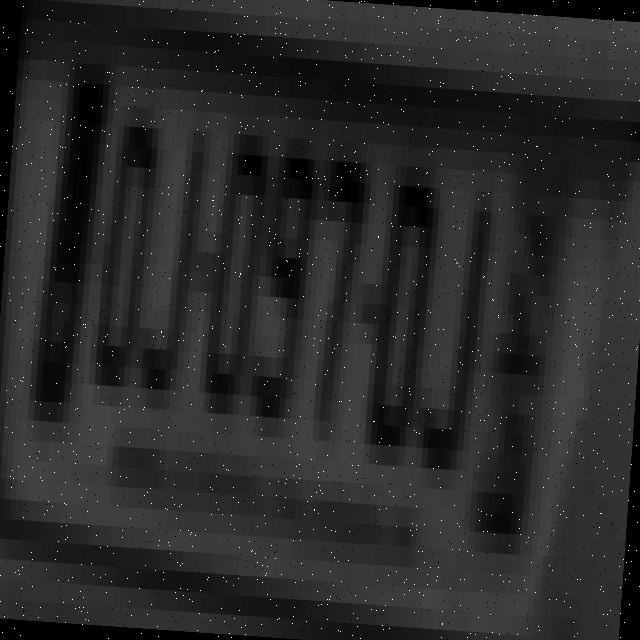Autre: (27, 60, 579, 549)
